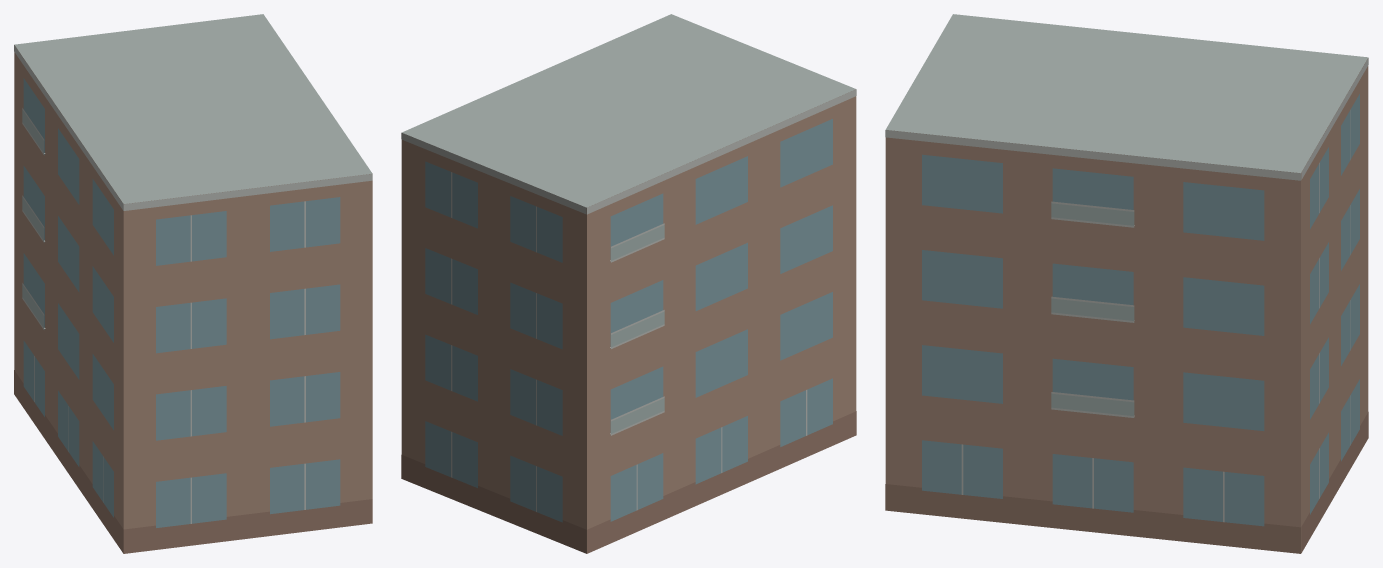
Rendered from residential-0798d793-cd14-4184-bc20-fce56aa73b21.glb.
The picture shows the model from 3 angles, left to right: view 1: azimuth 30°, elevation 25°; view 2: azimuth 150°, elevation 25°; view 3: azimuth 270°, elevation 25°; orthographic projection. The views are drawn at different scales.
Parts seen in each view (by area): view 1: residential-0798d793-cd14-4184-bc20-fce56aa73b21.tmp; view 2: residential-0798d793-cd14-4184-bc20-fce56aa73b21.tmp; view 3: residential-0798d793-cd14-4184-bc20-fce56aa73b21.tmp.
Boxes of the visible parts, x1=… form: residential-0798d793-cd14-4184-bc20-fce56aa73b21.tmp: x1=14, y1=14, x2=372, y2=553; residential-0798d793-cd14-4184-bc20-fce56aa73b21.tmp: x1=401, y1=14, x2=856, y2=553; residential-0798d793-cd14-4184-bc20-fce56aa73b21.tmp: x1=885, y1=14, x2=1368, y2=553.
Bounding box in the file's own units: 10.95 × 12.2 × 14.04.
